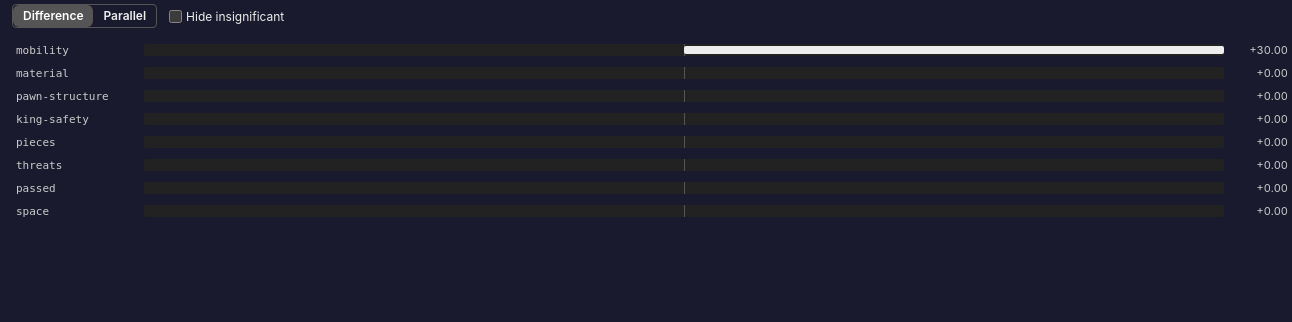
Test: <CurrentPositionMetricsPanel> KS-4043 › переключение режима «Разница ↔ Параллельно» меняет вид без перерасчёта
What coordinates should you click on to do the following:
click the tab with test id "current-metrics-mode-parallel"
I would click on:
 (125, 16)
Its box is [94,5,156,27].
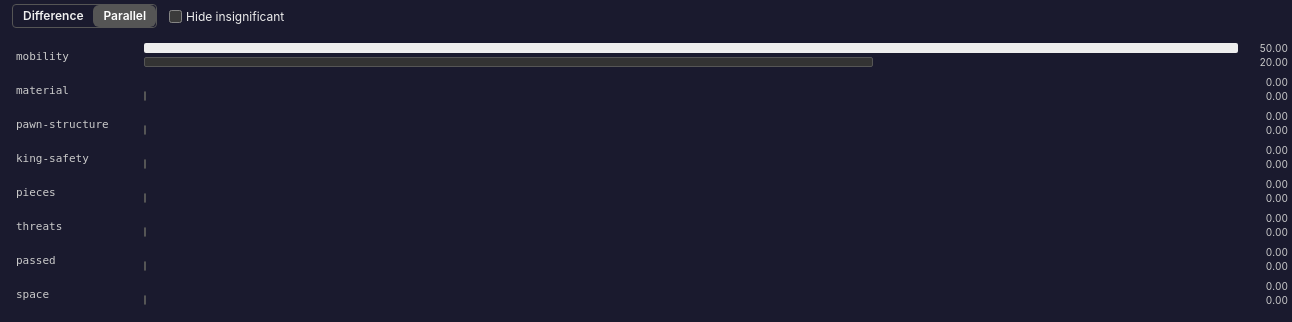
Check: the text with test id "current-metrics-row-white-mobility" reads "50.00", box [1259,42,1288,54]
Check: the text with test id "current-metrics-row-black-mobility" reads "20.00", box [1259,56,1288,68]
